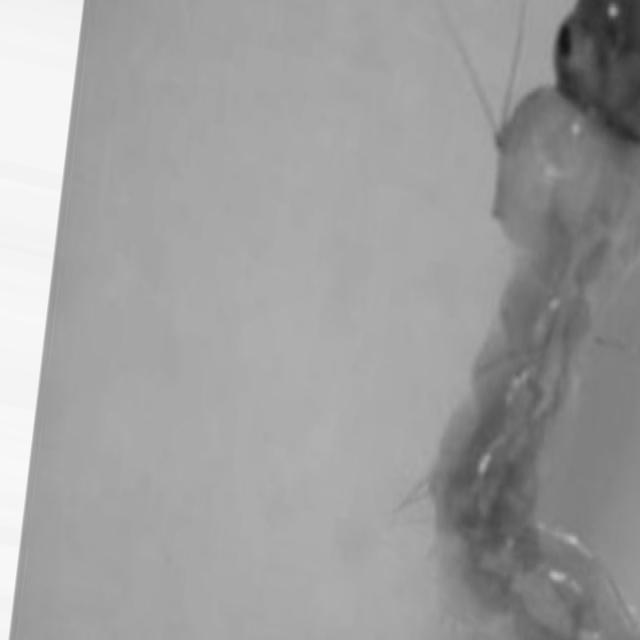larvas: (427, 0, 639, 629)
